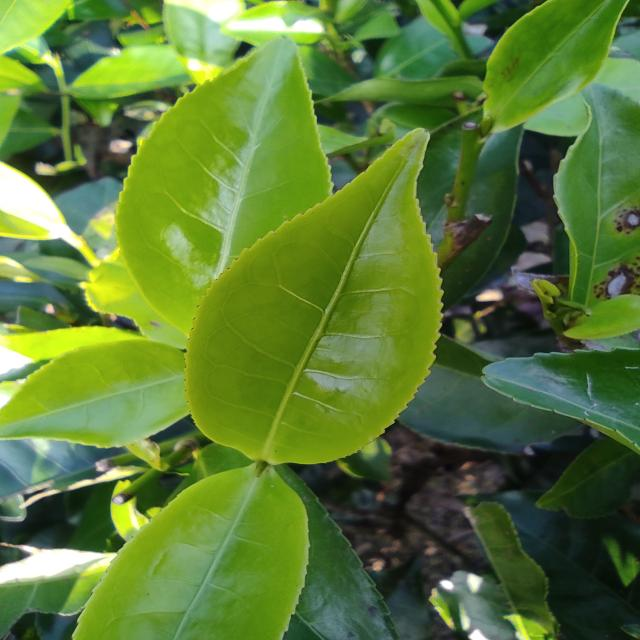Category B(2-4 days): (166, 116, 462, 478)
